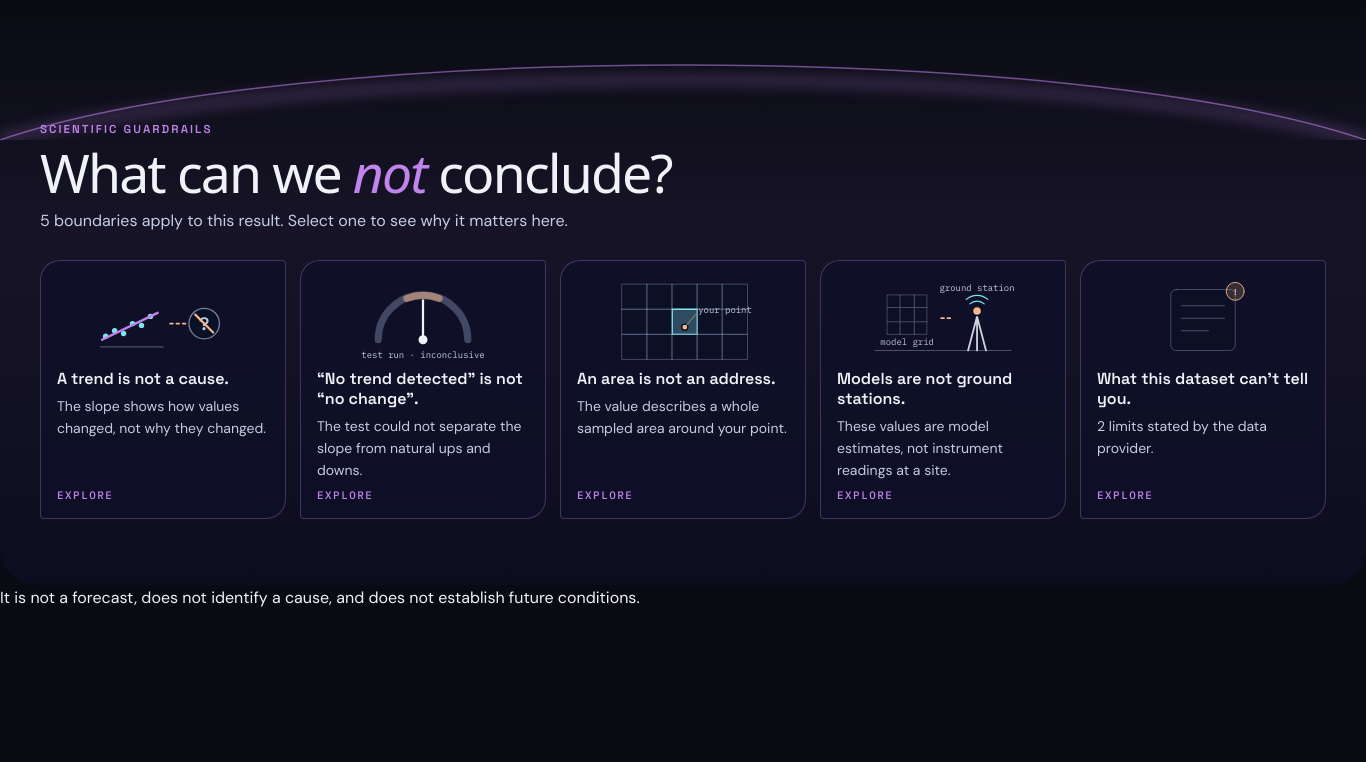
it: Mission Findings traceability › always explains causality and forecasting limits regardless of caveat ordering
Click the button "A trend is not a cause". click: (163, 389)
box: [40,260,286,519]
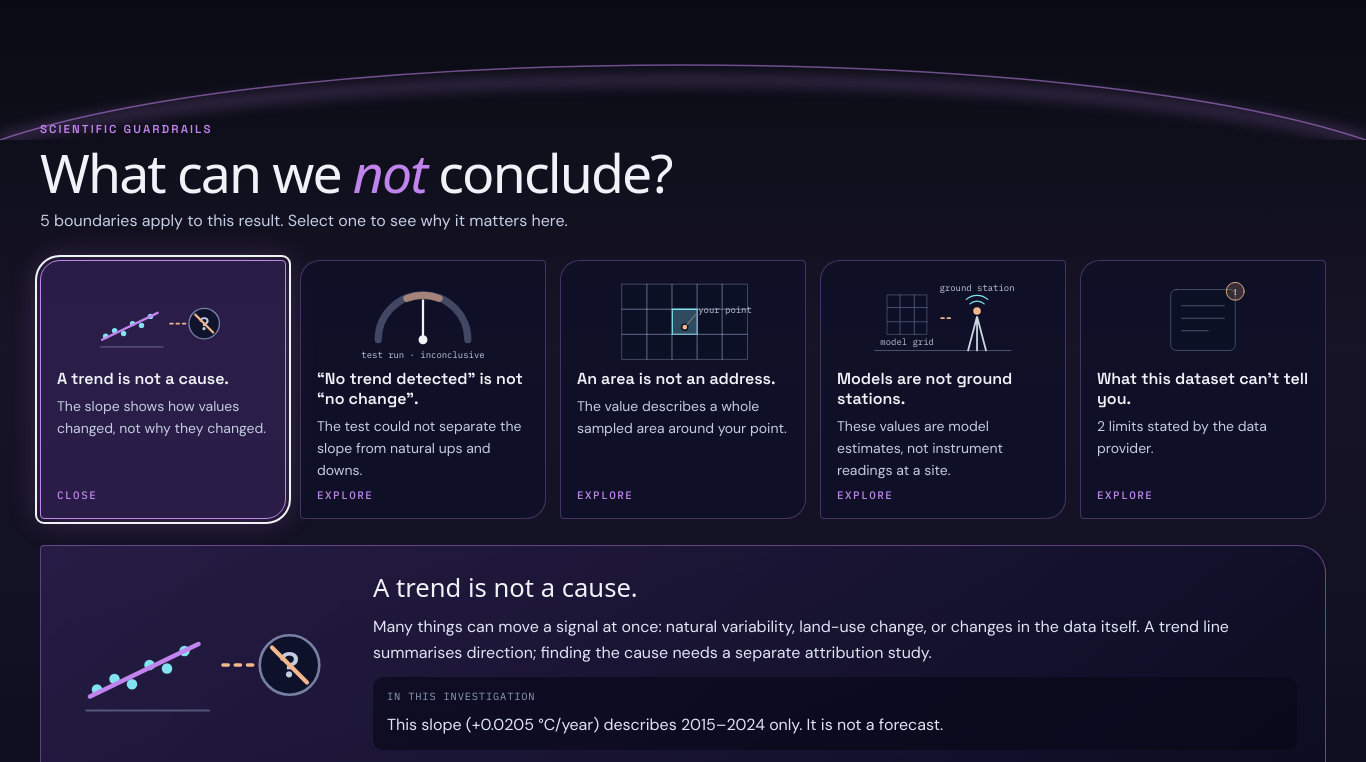
Expected: the text "It is not a forecast" is shown, [387,714,943,735]
Expected: the text "finding the cause needs a separate attribution study" is shown, [373,616,1229,662]
